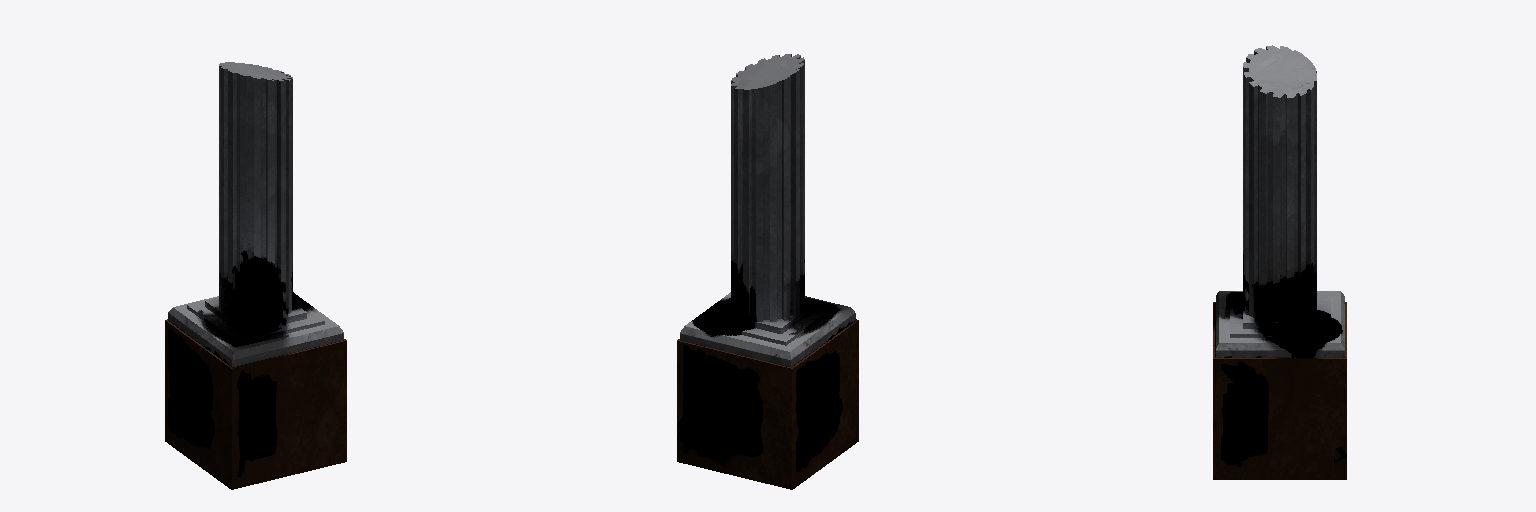
3 renders of one model, left to right at view 1: azimuth 30°, elevation 25°; view 2: azimuth 150°, elevation 25°; view 3: azimuth 270°, elevation 25°, orthographic.
Visible parts, largest first — view 1: Floor_basic.005_Cube.019; view 2: Floor_basic.005_Cube.019; view 3: Floor_basic.005_Cube.019.
Boxes of the visible parts, box(x1,y1,x2,y2) form: Floor_basic.005_Cube.019: box(165, 62, 346, 489); Floor_basic.005_Cube.019: box(677, 54, 858, 489); Floor_basic.005_Cube.019: box(1213, 45, 1346, 479).
Bounding box in the file's own units: 1 × 3.23 × 1.
1 materials, 1 textured.